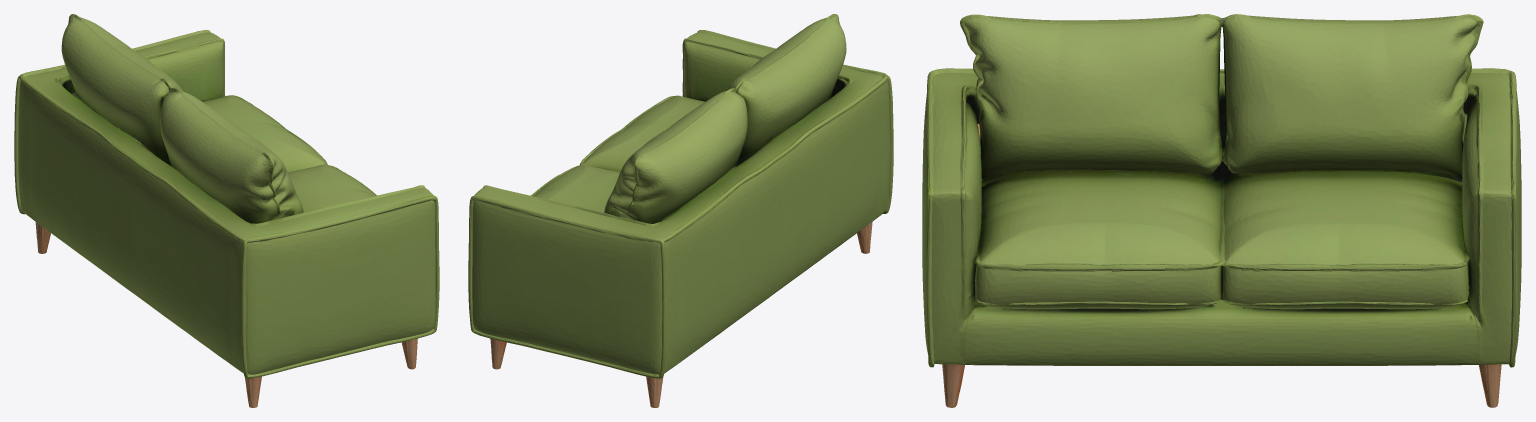
Rendered from sofamodel.glb.
The picture shows the model from 3 angles, left to right: view 1: azimuth 30°, elevation 25°; view 2: azimuth 150°, elevation 25°; view 3: azimuth 270°, elevation 25°; orthographic projection. The views are drawn at different scales.
Visible parts, largest first — view 1: tripo_node_1c0eb15a-3105-4e2a-89f4-9a899144c547; view 2: tripo_node_1c0eb15a-3105-4e2a-89f4-9a899144c547; view 3: tripo_node_1c0eb15a-3105-4e2a-89f4-9a899144c547.
Part boxes in pixels (box(x1,y1,x2,y2)): tripo_node_1c0eb15a-3105-4e2a-89f4-9a899144c547: box(14, 14, 439, 407); tripo_node_1c0eb15a-3105-4e2a-89f4-9a899144c547: box(468, 14, 893, 407); tripo_node_1c0eb15a-3105-4e2a-89f4-9a899144c547: box(922, 14, 1521, 407).
Bounding box in the file's own units: 0.5154 × 0.5664 × 0.9999.
Materials: 1 (1 with a texture image).
